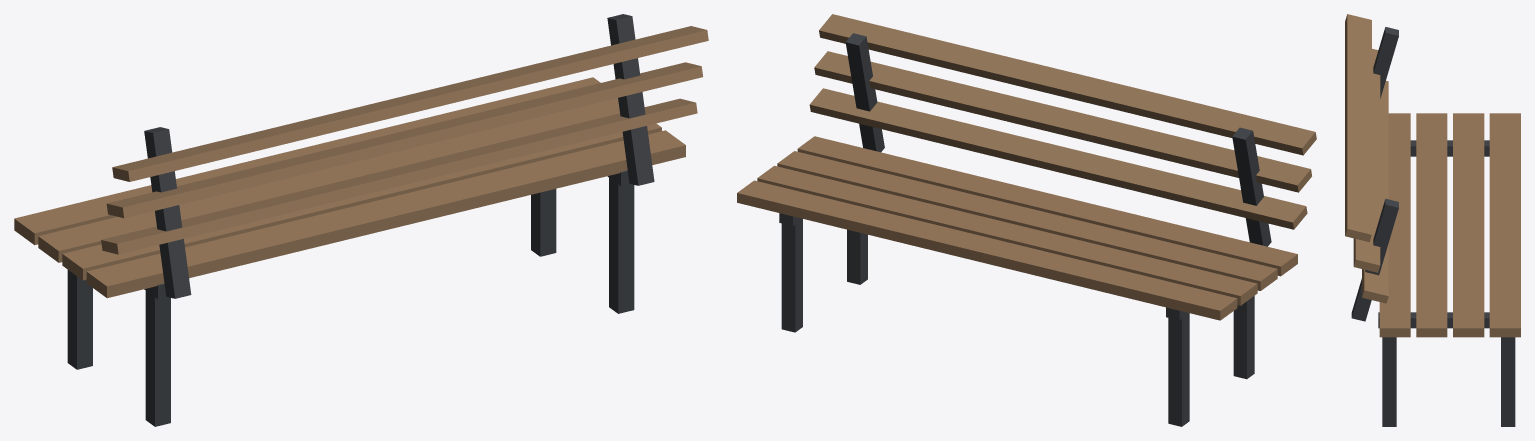
The model's file is bench-Bwr7OHgN.glb.
3 views of the same model, side by side, from view 1: azimuth 30°, elevation 25°; view 2: azimuth 150°, elevation 25°; view 3: azimuth 270°, elevation 25° (orthographic). The views are drawn at different scales.
Parts seen in each view (by area): view 1: bench; view 2: bench; view 3: bench.
Part boxes in pixels (x1,y1,x2,y2): bench: (14, 14, 708, 426); bench: (737, 14, 1316, 426); bench: (1345, 14, 1520, 426).
Size of the model in its own units: 1.8 by 0.8687 by 0.6223.
